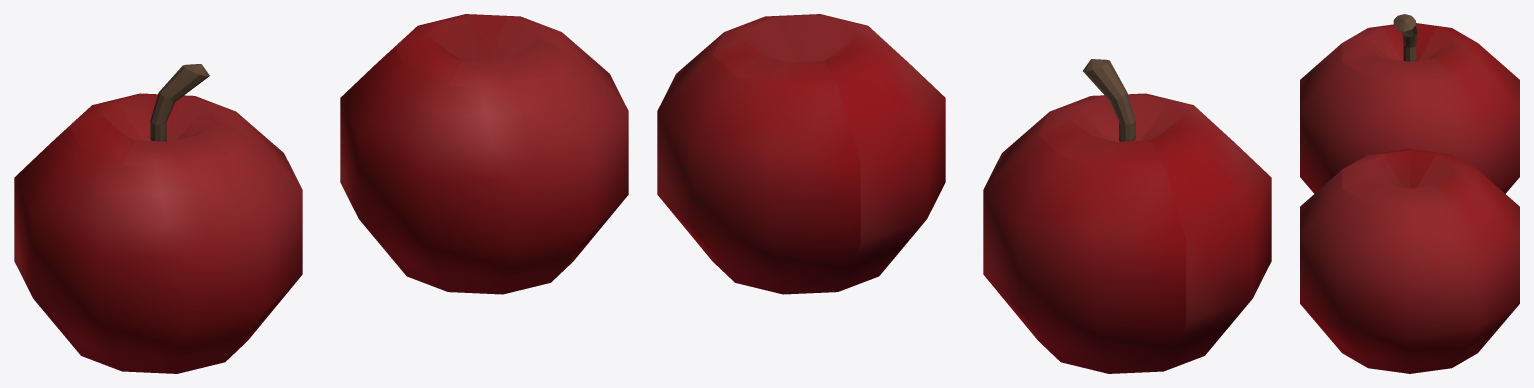
The model's file is apples.fbx.
The picture shows the model from 3 angles, left to right: view 1: azimuth 30°, elevation 25°; view 2: azimuth 150°, elevation 25°; view 3: azimuth 270°, elevation 25°; orthographic projection. The views are drawn at different scales.
Parts seen in each view (by area): view 1: Sphere002, Sphere001; view 2: Sphere002, Sphere001; view 3: Sphere001, Sphere002.
Boxes of the visible parts, x1,y1,x2,y2 form: Sphere002: (14,64,302,373); Sphere001: (340,14,628,294); Sphere002: (983,59,1271,373); Sphere001: (657,14,945,294); Sphere001: (1300,149,1519,373); Sphere002: (1300,14,1519,193).
Size of the model in its own units: 2.39 by 1.16 by 0.9892.
